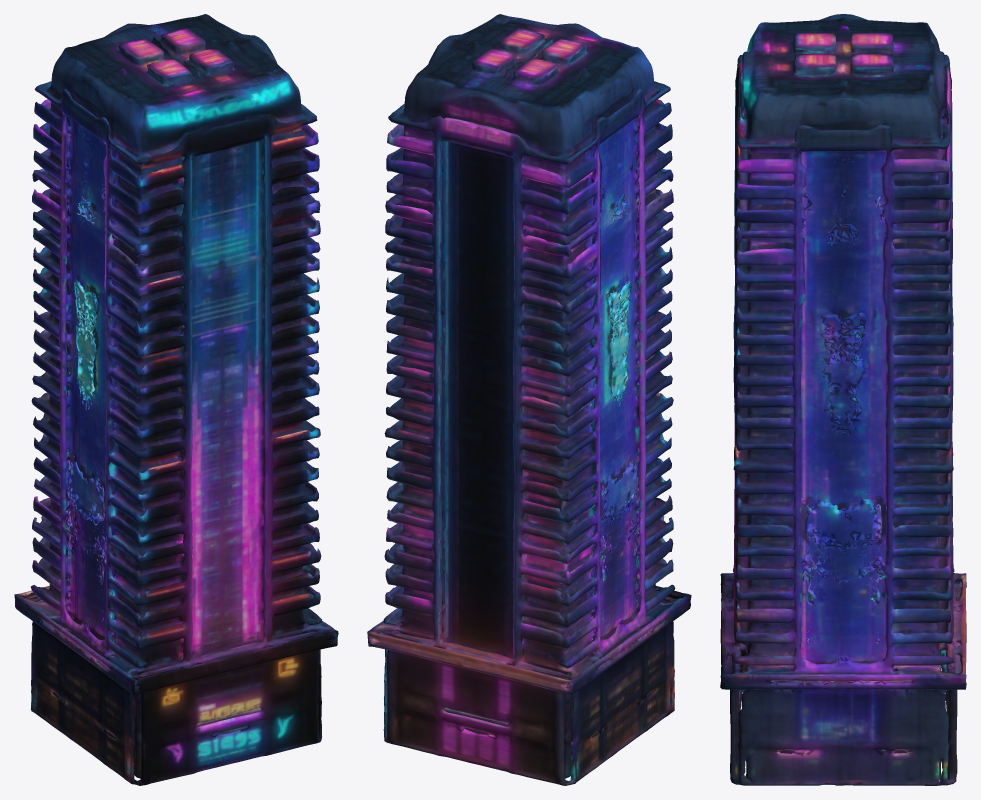
Rendered from Subject_100_story_me_0213120651.fbx.
The picture shows the model from 3 angles, left to right: view 1: azimuth 30°, elevation 25°; view 2: azimuth 150°, elevation 25°; view 3: azimuth 270°, elevation 25°; orthographic projection. The views are drawn at different scales.
Visible parts, largest first — view 1: Mesh_0; view 2: Mesh_0; view 3: Mesh_0.
Boxes of the visible parts, x1,y1,x2,y2 form: Mesh_0: (14, 14, 338, 785); Mesh_0: (367, 14, 691, 785); Mesh_0: (720, 14, 966, 785).
Size of the model in its own units: 64.13 by 201 by 64.97.
Materials: 1 (1 with a texture image).
